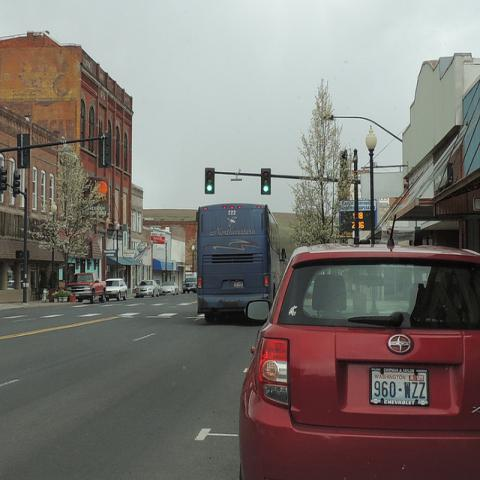bus: (201, 206, 280, 321)
car: (236, 214, 480, 479), (105, 278, 128, 301), (135, 280, 159, 298), (160, 282, 180, 296), (183, 276, 197, 294)
truck: (66, 272, 107, 303)
